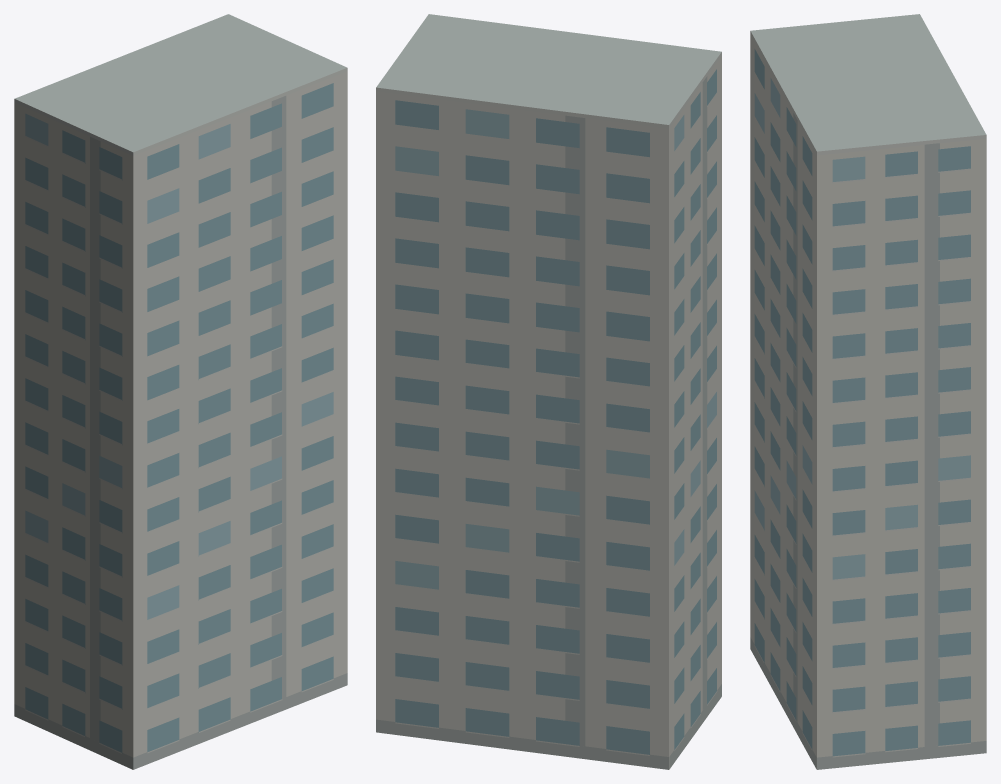
The model's file is residential-56f1c108-498f-4169-b8fb-0061ca19de05.glb.
3 views of the same model, side by side, from view 1: azimuth 30°, elevation 25°; view 2: azimuth 150°, elevation 25°; view 3: azimuth 270°, elevation 25° (orthographic). The views are drawn at different scales.
Parts seen in each view (by area): view 1: residential-56f1c108-498f-4169-b8fb-0061ca19de05.tmp; view 2: residential-56f1c108-498f-4169-b8fb-0061ca19de05.tmp; view 3: residential-56f1c108-498f-4169-b8fb-0061ca19de05.tmp.
Boxes of the visible parts, x1,y1,x2,y2 form: residential-56f1c108-498f-4169-b8fb-0061ca19de05.tmp: [14, 14, 347, 769]; residential-56f1c108-498f-4169-b8fb-0061ca19de05.tmp: [376, 14, 721, 769]; residential-56f1c108-498f-4169-b8fb-0061ca19de05.tmp: [750, 14, 986, 769].
Bounding box in the file's own units: 19.58 × 41 × 14.2.
